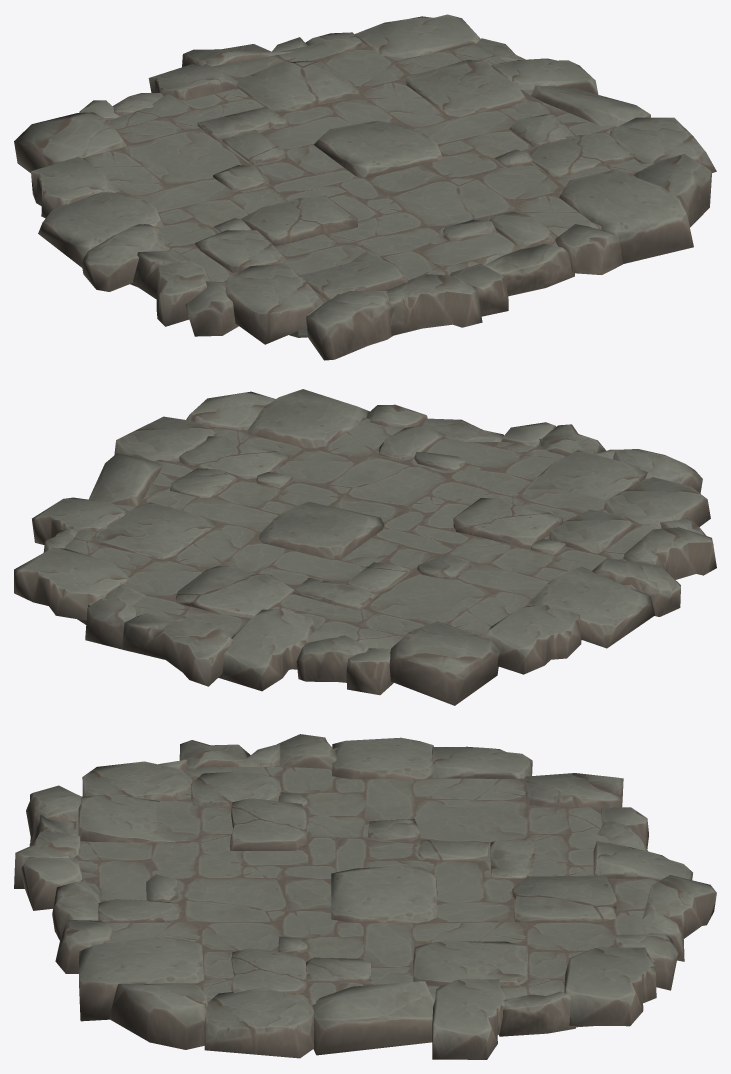
Rendered from SM_FW01_Ruins_Int_Floor_Chunk_02.fbx.
The picture shows the model from 3 angles, top to bottom: view 1: azimuth 30°, elevation 25°; view 2: azimuth 150°, elevation 25°; view 3: azimuth 270°, elevation 25°; orthographic projection. The views are drawn at different scales.
Parts seen in each view (by area): view 1: SM_FW01_Ruins_Int_Floor_Chunk_02_LOD0, SM_FW01_Ruins_Int_Floor_Chunk_02; view 2: SM_FW01_Ruins_Int_Floor_Chunk_02_LOD0, SM_FW01_Ruins_Int_Floor_Chunk_02; view 3: SM_FW01_Ruins_Int_Floor_Chunk_02_LOD0, SM_FW01_Ruins_Int_Floor_Chunk_02.
Boxes of the visible parts, left/top/right/bottom form: SM_FW01_Ruins_Int_Floor_Chunk_02_LOD0: left=14, top=14, right=716, bottom=360; SM_FW01_Ruins_Int_Floor_Chunk_02: left=83, top=36, right=653, bottom=337; SM_FW01_Ruins_Int_Floor_Chunk_02_LOD0: left=14, top=389, right=716, bottom=705; SM_FW01_Ruins_Int_Floor_Chunk_02: left=64, top=417, right=659, bottom=669; SM_FW01_Ruins_Int_Floor_Chunk_02_LOD0: left=14, top=734, right=716, bottom=1059; SM_FW01_Ruins_Int_Floor_Chunk_02: left=56, top=748, right=657, bottom=1027.
Size of what is drawn, in the model's own units: 4.15 by 0.3334 by 4.12.
